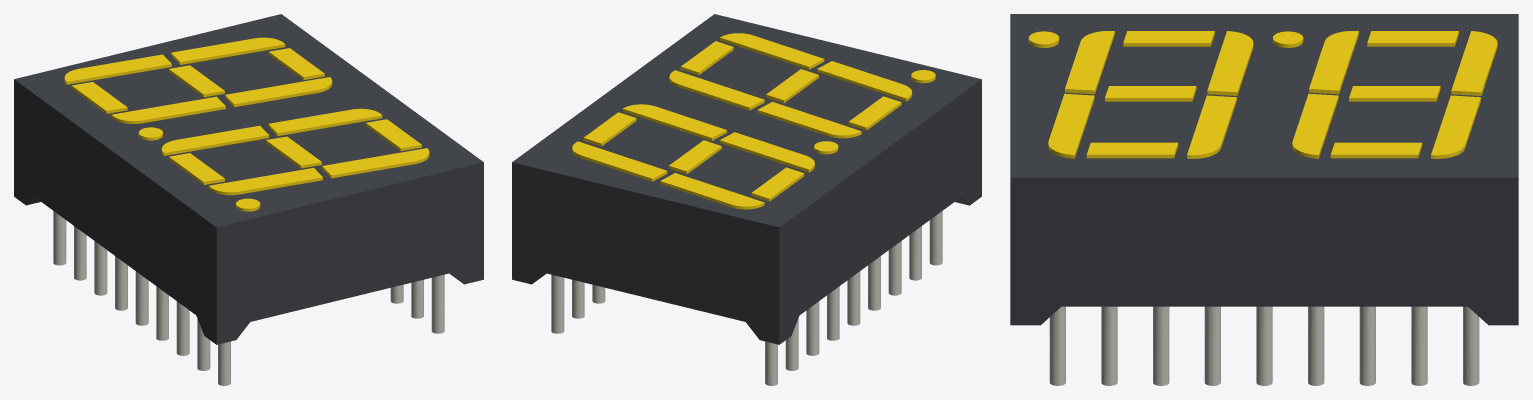
The model's file is kc-da56-11sykwa.glb.
3 renders of one model, left to right at view 1: azimuth 30°, elevation 25°; view 2: azimuth 150°, elevation 25°; view 3: azimuth 270°, elevation 25°, orthographic. The views are drawn at different scales.
Parts seen in each view (by area): view 1: 0.08333333333333333_0.08333333333333333_0.08333333333333333_, 0.9166666666666666_0.6666666666666666_0_0, 0.6666666666666666_0.6666666666666666_0.5833333333333334_0.8; view 2: 0.08333333333333333_0.08333333333333333_0.08333333333333333_, 0.9166666666666666_0.6666666666666666_0_0, 0.6666666666666666_0.6666666666666666_0.5833333333333334_0.8; view 3: 0.08333333333333333_0.08333333333333333_0.08333333333333333_, 0.9166666666666666_0.6666666666666666_0_0, 0.6666666666666666_0.6666666666666666_0.5833333333333334_0.8.
Part boxes in pixels (x1,y1,x2,y2): 0.08333333333333333_0.08333333333333333_0.08333333333333333_: [14, 14, 483, 344]; 0.9166666666666666_0.6666666666666666_0_0: [64, 37, 429, 211]; 0.6666666666666666_0.6666666666666666_0.5833333333333334_0.8: [53, 211, 444, 385]; 0.08333333333333333_0.08333333333333333_0.08333333333333333_: [512, 14, 981, 344]; 0.9166666666666666_0.6666666666666666_0_0: [572, 33, 935, 209]; 0.6666666666666666_0.6666666666666666_0.5833333333333334_0.8: [551, 211, 942, 385]; 0.08333333333333333_0.08333333333333333_0.08333333333333333_: [1010, 14, 1518, 325]; 0.9166666666666666_0.6666666666666666_0_0: [1028, 31, 1497, 158]; 0.6666666666666666_0.6666666666666666_0.5833333333333334_0.8: [1049, 306, 1479, 385].
Size of the model in its own units: 1.91 by 1.22 by 2.5.
